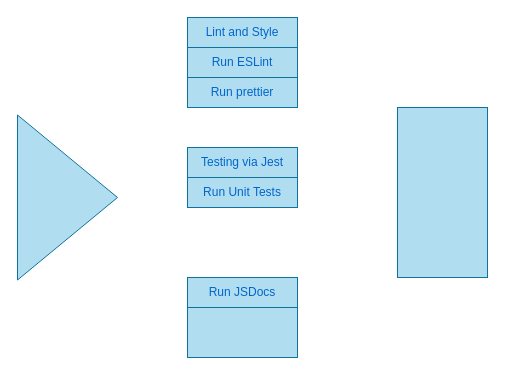
Some shapes in this 505 by 375 pixel diagram are drawn without their labels. Each missing label, with the box of its shape:
Generate documentation in /source/doc/: (186, 306, 298, 358)
On push: (16, 114, 118, 280)
Return results: (396, 106, 488, 278)
